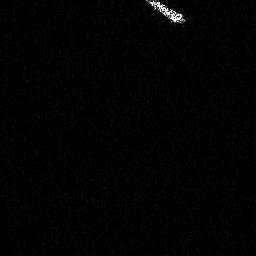ship: (145, 1, 188, 25)
